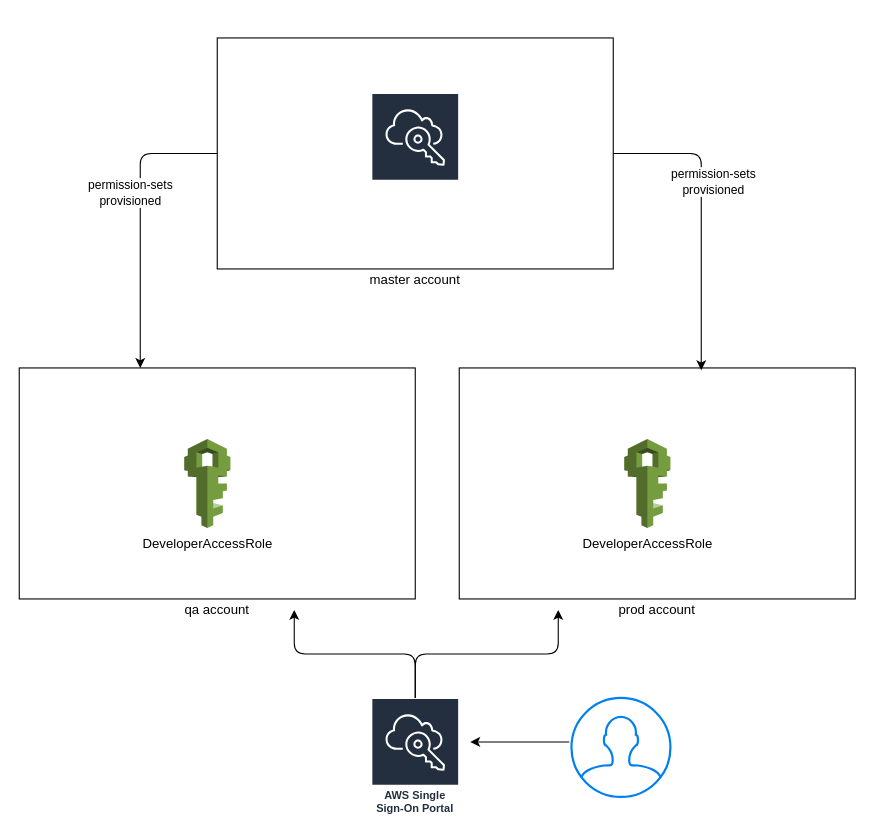
Some shapes in this 875 by 839 pixel diagram are drawn without their labels. The centre of each missing label's shape, as x and y in pixels:
AWS Single Sign-On: pixel 414 153
Users login via SSO portal: pixel 620 747
